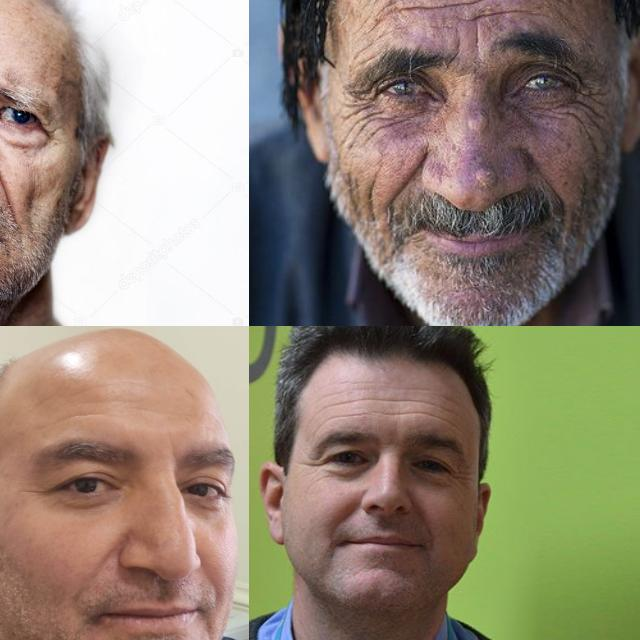crows_feet: (575, 75, 609, 133), (340, 88, 382, 124), (17, 481, 47, 499), (304, 451, 328, 473), (448, 464, 468, 490)
forehead: (360, 388, 394, 422), (318, 394, 352, 424), (400, 388, 430, 422), (489, 0, 556, 14), (434, 389, 458, 428), (62, 408, 106, 426), (425, 0, 474, 14), (374, 0, 409, 18)
frown_line: (464, 26, 488, 64), (164, 432, 184, 462)
gummy_smile: (392, 150, 426, 202), (548, 176, 570, 230), (0, 170, 17, 211)
